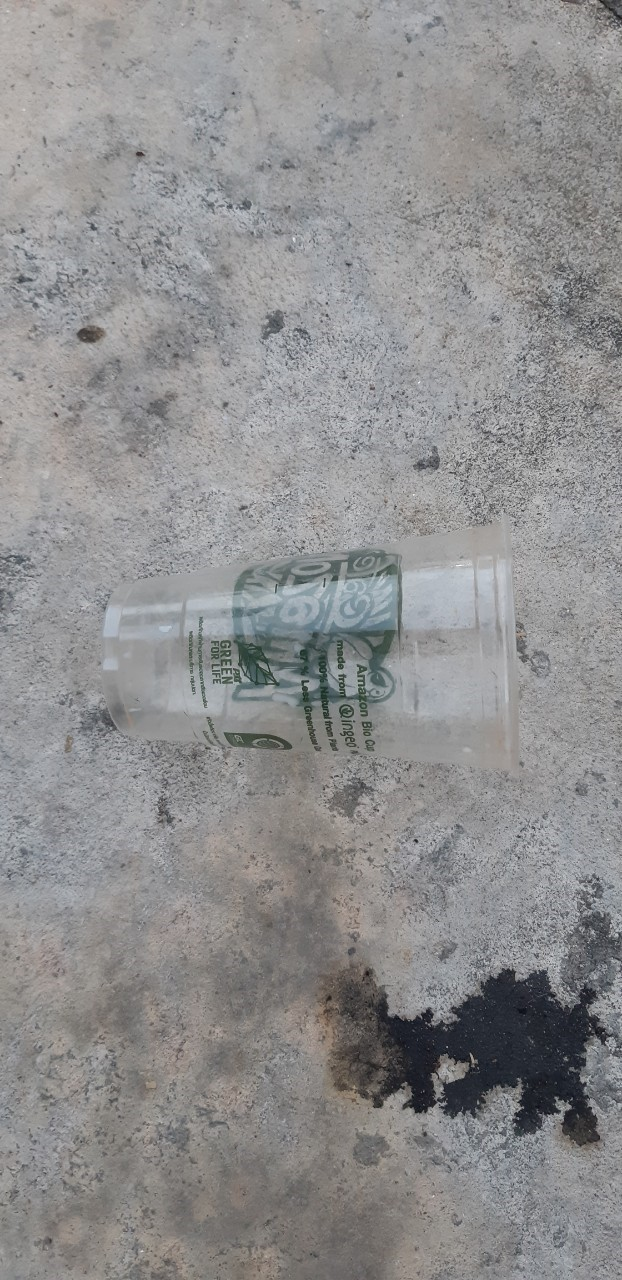PlasticCup: (96, 517, 528, 794)
